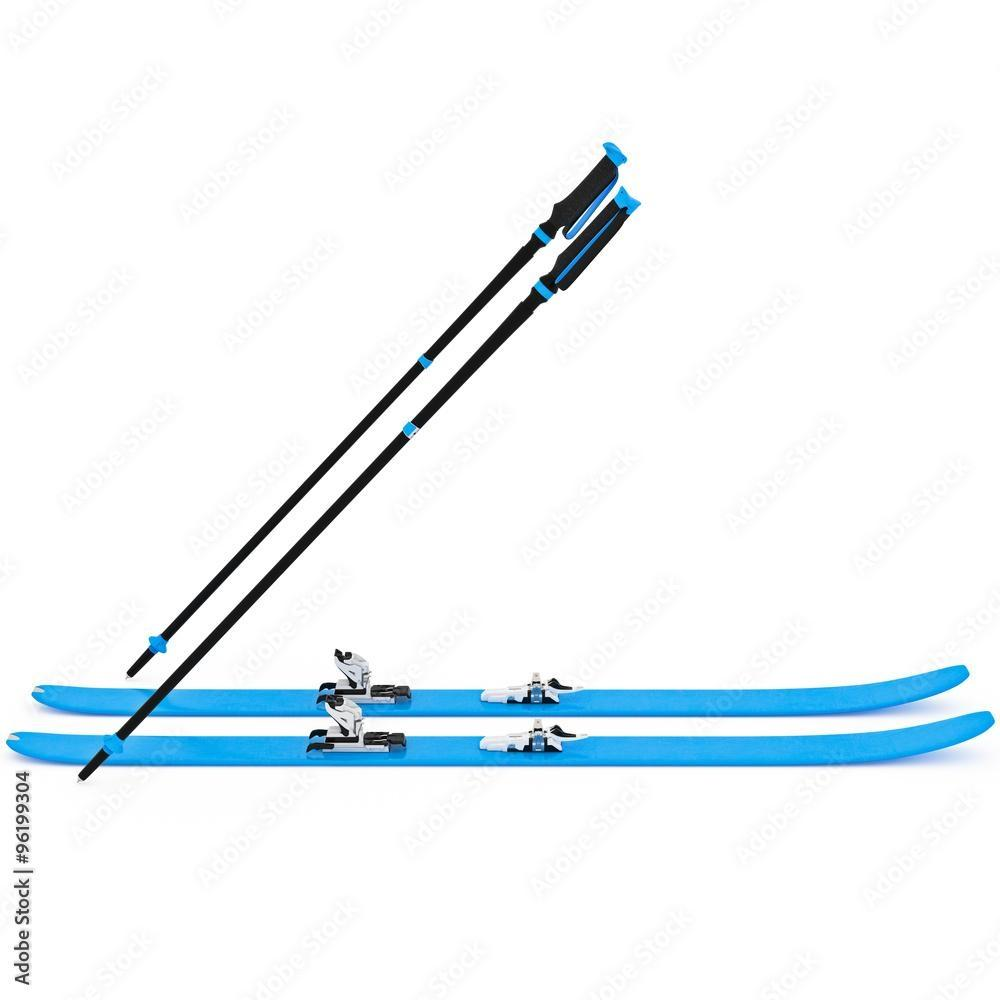Skis: (15, 118, 974, 836)
